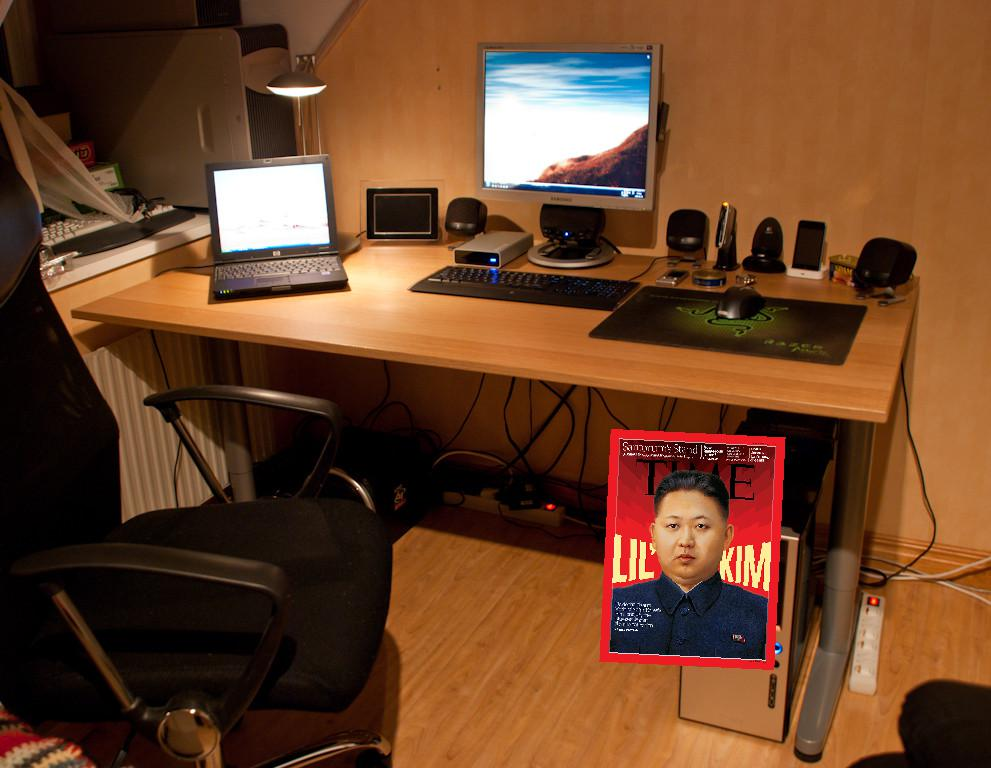times: (591, 427, 791, 677)
